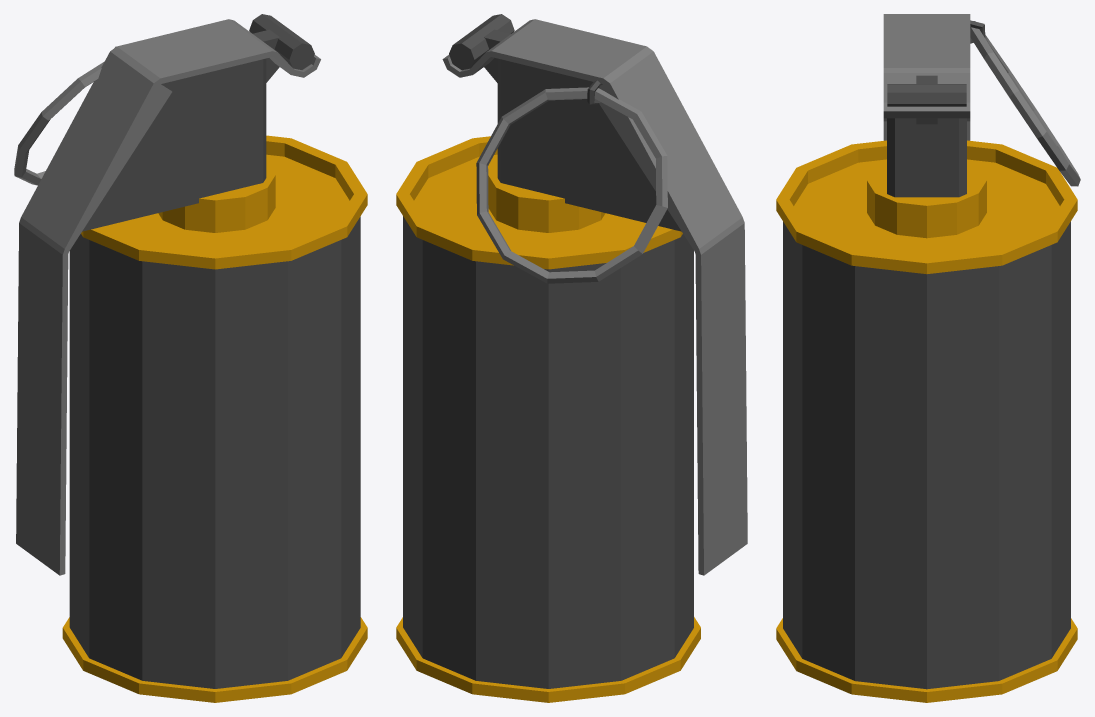
File: lp-grenade-smoke.glb
3 renders of one model, left to right at view 1: azimuth 30°, elevation 25°; view 2: azimuth 150°, elevation 25°; view 3: azimuth 270°, elevation 25°, orthographic.
Parts seen in each view (by area): view 1: body, spoon, pin; view 2: body, spoon, pin; view 3: body, spoon, pin.
Part boxes in pixels (x1,y1,x2,y2): body: (62,14,367,702); spoon: (16,19,320,575); pin: (14,61,104,185); body: (396,14,700,702); spoon: (442,19,747,575); pin: (476,87,667,283); body: (776,20,1077,702); spoon: (883,14,970,140); pin: (970,21,1080,186).
Size of the model in its own units: 0.0818 by 0.1503 by 0.0705.
Materials: 1 (1 with a texture image).
